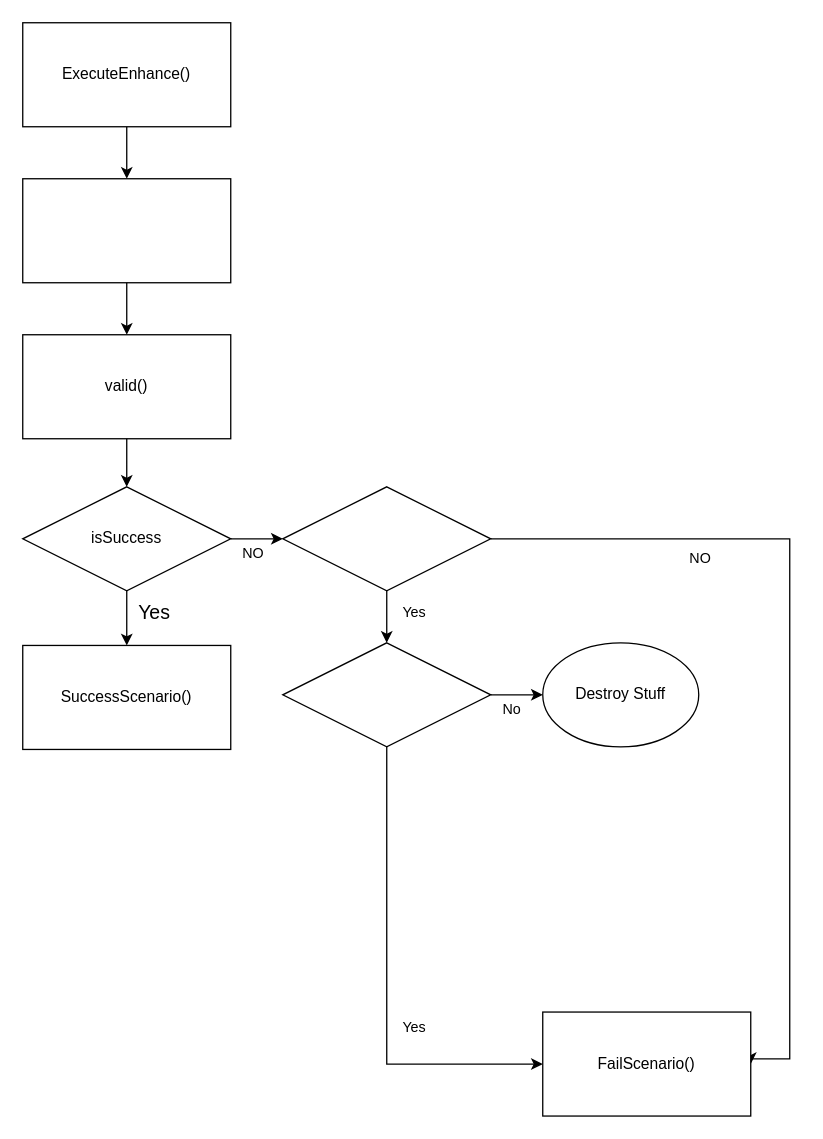
Some shapes in this 823 by 1139 pixel diagram are drawn without their labels. The centre of each missing label's shape, as x and y in pixels:
"isDestroy" belongs at pixel 386 538.
"isExistProtectScroll" belongs at pixel 386 694.
"ScrollAmountInit()" belongs at pixel 126 230.
